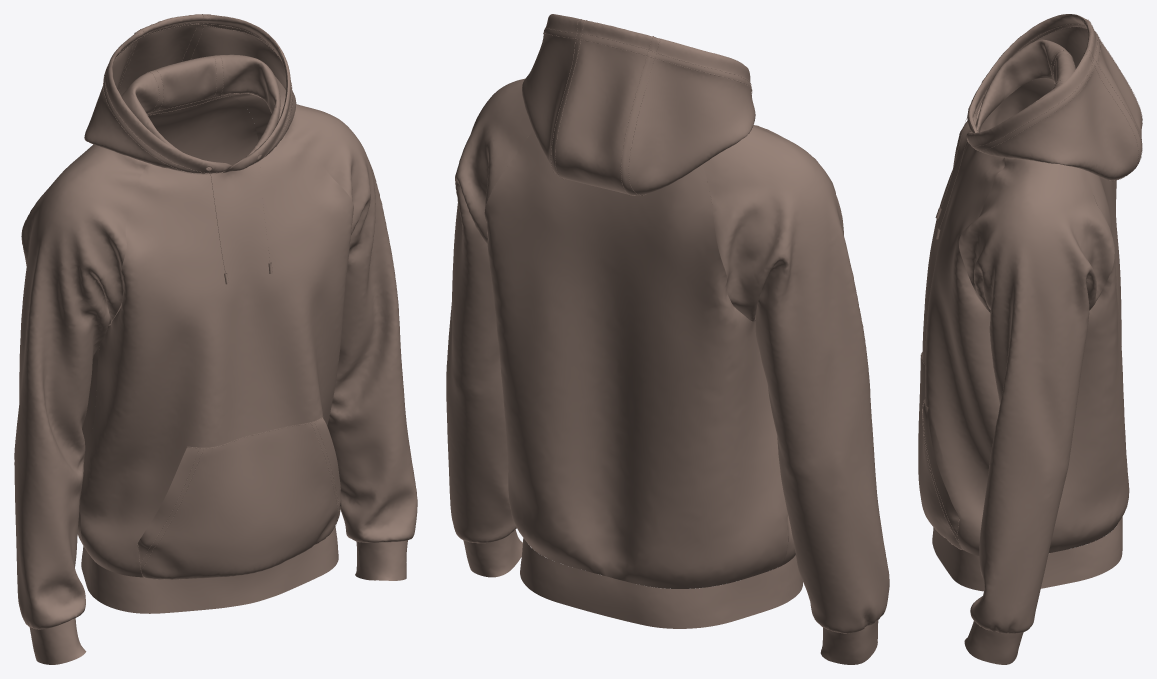
The model's file is hoodie.glb.
The picture shows the model from 3 angles, left to right: view 1: azimuth 30°, elevation 25°; view 2: azimuth 150°, elevation 25°; view 3: azimuth 270°, elevation 25°; orthographic projection. The views are drawn at different scales.
Visible parts, largest first — view 1: Pattern_106161, Pattern_106145, Pattern_106144, Cloth, Pattern_152595, Pattern_106132, Pattern_106131, Pattern_106151, Pattern_106150, Pattern_912856, Pattern_912855, Pattern_1207603 (+1 smaller); view 2: Pattern_106151, Pattern_106145, Pattern_106144, Pattern_106132, Pattern_106150, Pattern_152596, Pattern_106131, Pattern_912856, Pattern_912855, Pattern_152595; view 3: Pattern_106144, Pattern_106161, Pattern_106151, Pattern_106131, Pattern_106132, Cloth, Pattern_152596, Pattern_106150, Pattern_1207604, Pattern_912856, Pattern_152595, Pattern_106145.
Boxes of the visible parts, x1=… form: Pattern_106161: x1=80, y1=134, x2=353, y2=577; Pattern_106145: x1=14, y1=144, x2=147, y2=629; Pattern_106144: x1=228, y1=93, x2=417, y2=542; Cloth: x1=137, y1=168, x2=340, y2=579; Pattern_152595: x1=90, y1=526, x2=338, y2=613; Pattern_106132: x1=84, y1=31, x2=231, y2=174; Pattern_106131: x1=191, y1=14, x2=296, y2=172; Pattern_106151: x1=77, y1=94, x2=258, y2=549; Pattern_106150: x1=119, y1=14, x2=217, y2=109; Pattern_912856: x1=355, y1=540, x2=407, y2=580; Pattern_912855: x1=29, y1=618, x2=86, y2=664; Pattern_1207603: x1=202, y1=15, x2=287, y2=168; Pattern_106151: x1=484, y1=130, x2=787, y2=588; Pattern_106145: x1=702, y1=125, x2=889, y2=633; Pattern_106144: x1=446, y1=78, x2=533, y2=543; Pattern_106132: x1=625, y1=38, x2=755, y2=195; Pattern_106150: x1=552, y1=20, x2=656, y2=195; Pattern_152596: x1=520, y1=538, x2=782, y2=628; Pattern_106131: x1=522, y1=14, x2=582, y2=173; Pattern_912856: x1=463, y1=529, x2=522, y2=577; Pattern_912855: x1=820, y1=620, x2=878, y2=664; Pattern_152595: x1=780, y1=536, x2=802, y2=604; Pattern_106144: x1=959, y1=157, x2=1114, y2=633; Pattern_106161: x1=922, y1=126, x2=1004, y2=555; Pattern_106151: x1=1049, y1=171, x2=1129, y2=552; Pattern_106131: x1=966, y1=52, x2=1140, y2=180; Pattern_106132: x1=967, y1=14, x2=1088, y2=132; Cloth: x1=918, y1=117, x2=967, y2=549; Pattern_152596: x1=1041, y1=517, x2=1122, y2=588; Pattern_106150: x1=1053, y1=20, x2=1142, y2=171; Pattern_1207604: x1=969, y1=14, x2=1087, y2=132; Pattern_912856: x1=964, y1=621, x2=1023, y2=664; Pattern_152595: x1=932, y1=527, x2=984, y2=591; Pattern_106145: x1=961, y1=78, x2=1055, y2=132.
Size of the model in its own units: 0.576 by 0.8042 by 0.2982.
